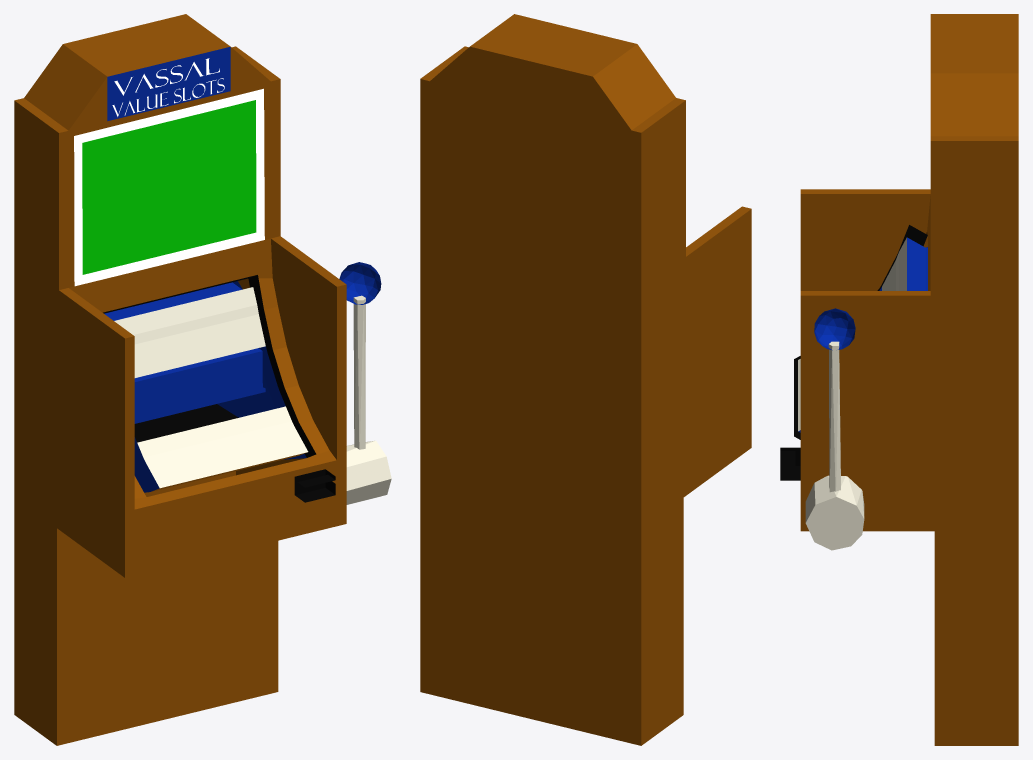
File: Slot Machine - Vassal - Battle.glb
3 renders of one model, left to right at view 1: azimuth 30°, elevation 25°; view 2: azimuth 150°, elevation 25°; view 3: azimuth 270°, elevation 25°, orthographic.
Parts seen in each view (by area): view 1: Slot Machine, Pull Handle, Title; view 2: Slot Machine; view 3: Slot Machine, Pull Handle.
Boxes of the visible parts, x1,y1,x2,y2 form: Slot Machine: (14,14,346,745); Pull Handle: (339,262,391,504); Title: (112,58,224,116); Slot Machine: (420,14,751,745); Slot Machine: (780,14,1018,745); Pull Handle: (805,308,864,550).
Size of what is drawn, in the model's own units: 0.8369 by 1.95 by 0.6478.
